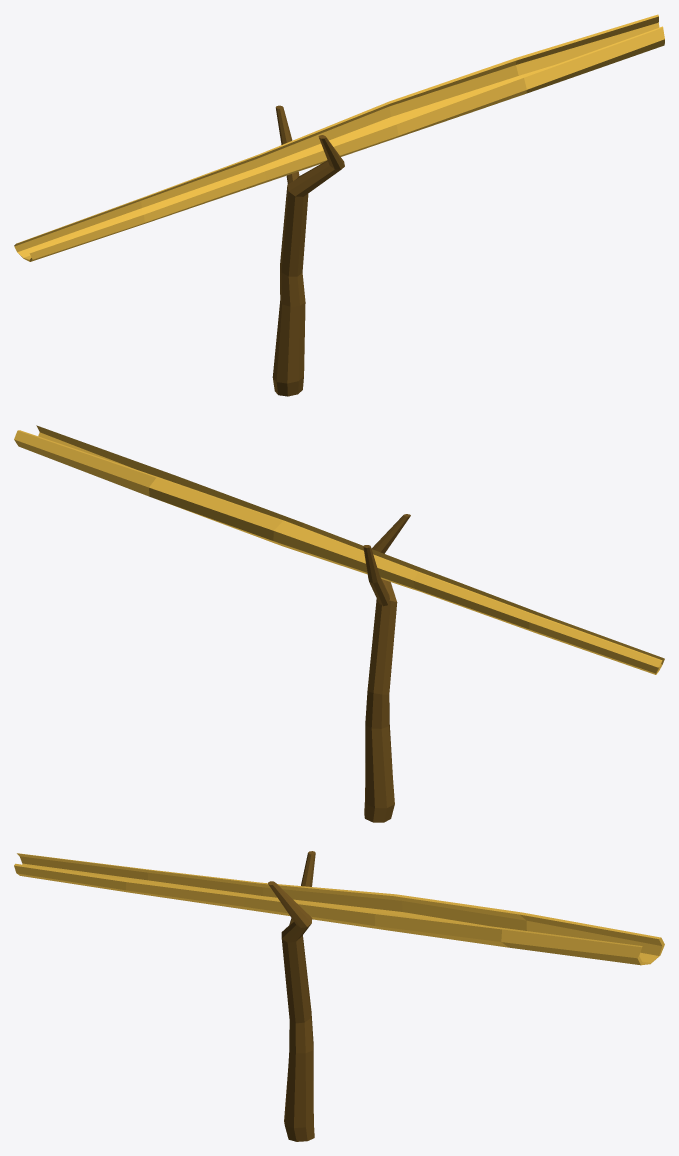
File: Wasserleitung_Holz_rdy.fbx
3 renders of one model, top to bottom at view 1: azimuth 30°, elevation 25°; view 2: azimuth 150°, elevation 25°; view 3: azimuth 330°, elevation 25°, orthographic.
Visible parts, largest first — view 1: Rohr, Astgabel; view 2: Rohr, Astgabel; view 3: Rohr, Astgabel.
Part boxes in pixels (box(x1,y1,x2,y2)): Rohr: box(14, 14, 664, 261); Astgabel: box(272, 105, 344, 396); Rohr: box(14, 425, 664, 674); Astgabel: box(363, 514, 410, 822); Rohr: box(14, 853, 664, 965); Astgabel: box(268, 851, 315, 1141).
Size of the model in its own units: 1861 by 808 by 226.
